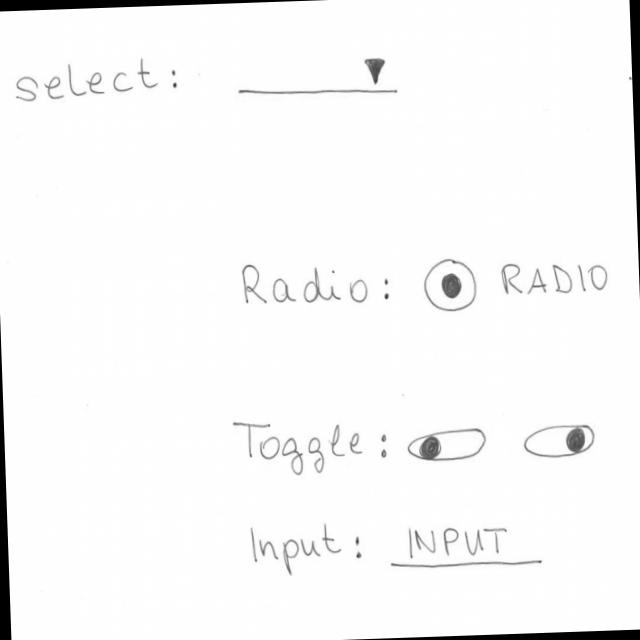input: (384, 516, 544, 572)
radio: (418, 246, 610, 314)
select: (233, 52, 400, 103)
toggle: (404, 421, 488, 464), (520, 418, 598, 462)
